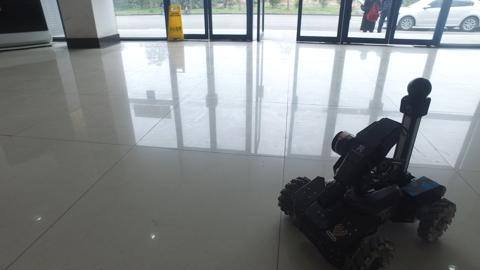car: (377, 1, 480, 34)
chariot: (276, 76, 457, 270)
